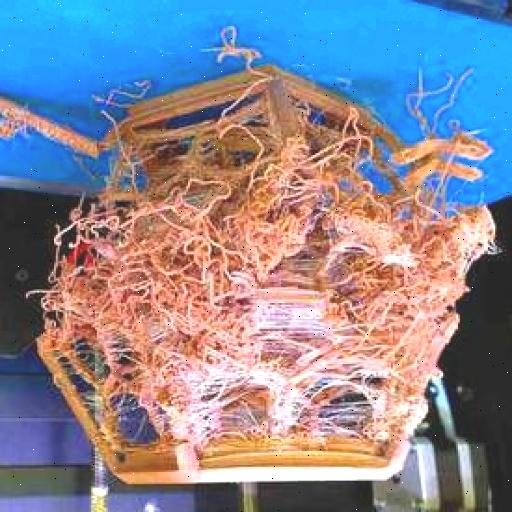spaghetti: (39, 90, 493, 432)
